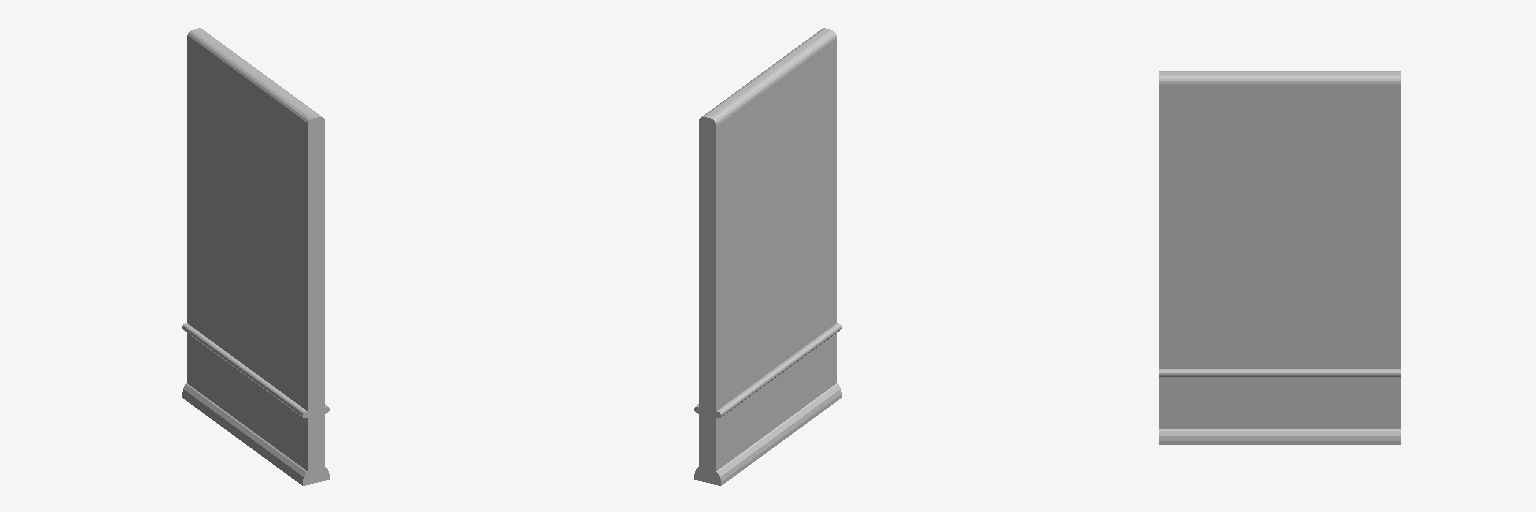
File: SM_Wall_Tall.obj
3 views of the same model, side by side, from view 1: azimuth 30°, elevation 25°; view 2: azimuth 150°, elevation 25°; view 3: azimuth 270°, elevation 25° (orthographic).
Parts seen in each view (by area): view 1: WallSection_Tall STRUCTURE pCube16, pCube4 WallSection_Tall STRUCTURE, WallSection_Tall STRUCTURE WallSection_Tall_pCube5; view 2: WallSection_Tall STRUCTURE pCube16, pCube4 WallSection_Tall STRUCTURE, WallSection_Tall STRUCTURE WallSection_Tall_pCube5; view 3: WallSection_Tall STRUCTURE pCube16, pCube4 WallSection_Tall STRUCTURE, WallSection_Tall STRUCTURE WallSection_Tall_pCube5.
Part boxes in pixels (x1,y1,x2,y2): WallSection_Tall STRUCTURE pCube16: (187,28,324,413); pCube4 WallSection_Tall STRUCTURE: (187,333,324,483); WallSection_Tall STRUCTURE WallSection_Tall_pCube5: (182,323,329,485); WallSection_Tall STRUCTURE pCube16: (699,28,836,413); pCube4 WallSection_Tall STRUCTURE: (699,333,836,483); WallSection_Tall STRUCTURE WallSection_Tall_pCube5: (694,323,841,485); WallSection_Tall STRUCTURE pCube16: (1159,71,1400,368); pCube4 WallSection_Tall STRUCTURE: (1159,377,1400,428); WallSection_Tall STRUCTURE WallSection_Tall_pCube5: (1159,369,1400,444).
Size of the model in its own units: 0.7698 by 10.01 by 6.